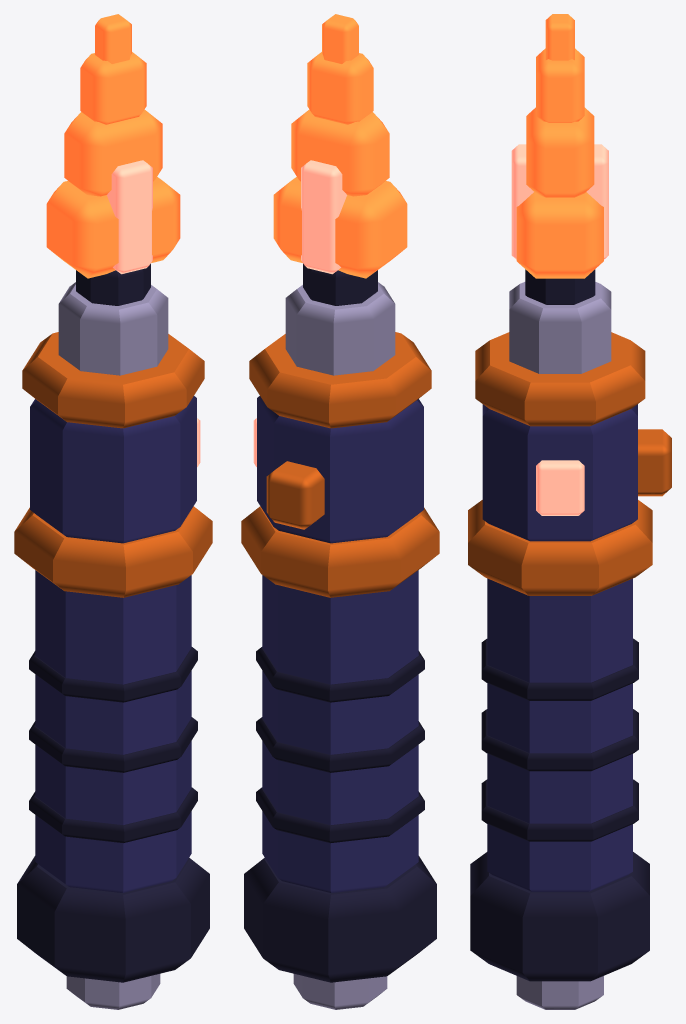
The model's file is welding_torch.glb.
The picture shows the model from 3 angles, left to right: view 1: azimuth 30°, elevation 25°; view 2: azimuth 150°, elevation 25°; view 3: azimuth 270°, elevation 25°; orthographic projection.
Visible parts, largest first — view 1: item.welding_torch.body, part.flame; view 2: item.welding_torch.body, part.flame; view 3: item.welding_torch.body, part.flame.
Part boxes in pixels (x1,y1,x2,y2): item.welding_torch.body: (14, 263, 212, 1009); part.flame: (46, 14, 180, 278); item.welding_torch.body: (241, 263, 439, 1009); part.flame: (273, 14, 407, 278); item.welding_torch.body: (468, 269, 671, 1009); part.flame: (511, 14, 608, 278).
Size of the model in its own units: 0.1187 by 0.6937 by 0.1312.
